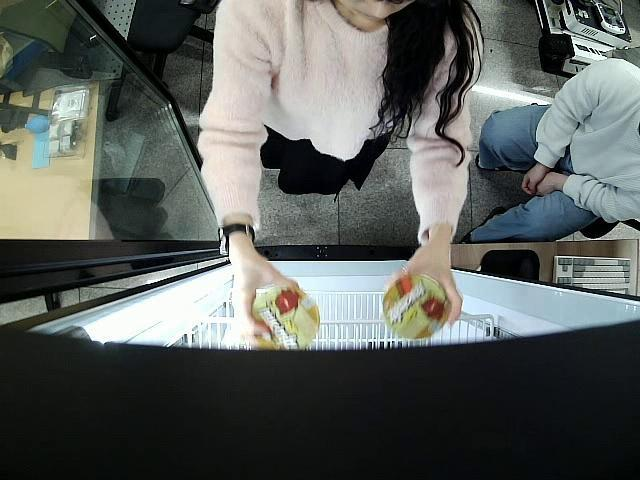04_chapagetti_S: (251, 283, 322, 351), (384, 275, 450, 339)
